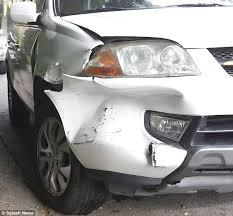fender-dent: (31, 19, 104, 84)
front-bumper-dent: (64, 83, 218, 194)
